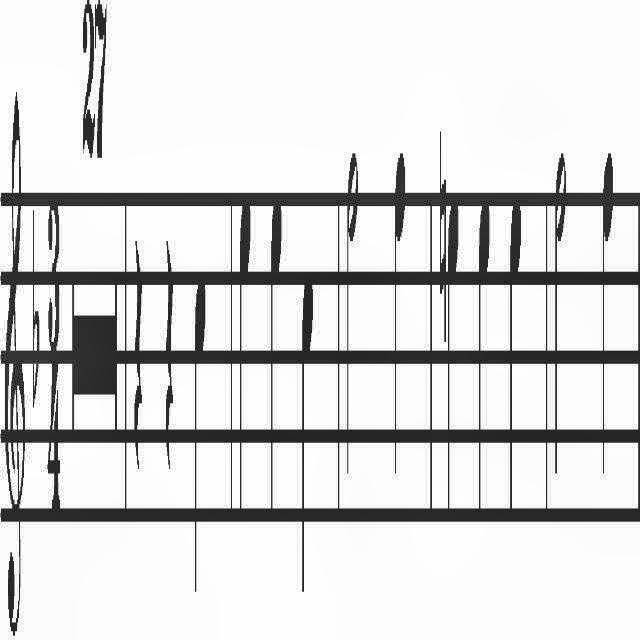Bass-clef: (2, 35, 28, 640)
Bemol: (30, 161, 42, 447)
Half-note: (550, 135, 570, 509), (342, 136, 360, 524)
Quarter-note: (267, 114, 285, 590), (190, 250, 210, 616), (473, 161, 491, 561), (237, 156, 255, 552), (300, 228, 318, 620), (393, 100, 411, 492), (507, 193, 525, 522), (601, 102, 615, 502), (446, 172, 462, 516)
Quarter-rest: (130, 214, 146, 526), (162, 214, 176, 504)
